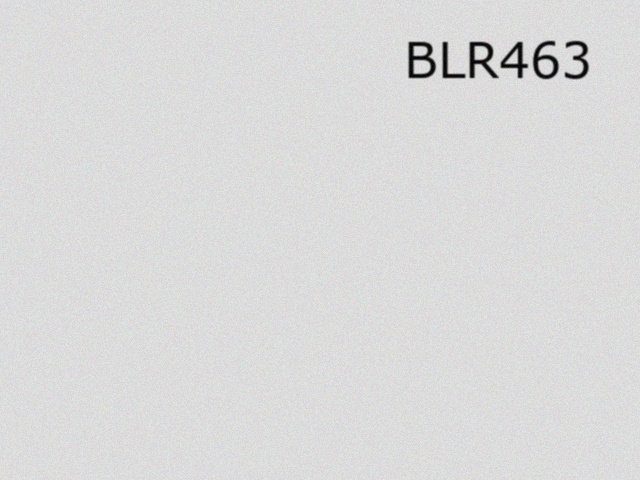OCR_AREA: (400, 37, 596, 83)
